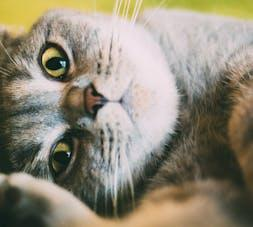kedo: (0, 8, 253, 218)
